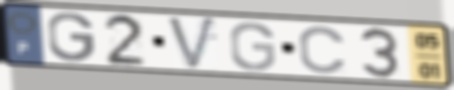2: (103, 12, 148, 69)
3: (358, 26, 401, 81)
C: (297, 24, 350, 76)
G: (45, 11, 97, 64), (227, 20, 278, 72)
V: (165, 15, 220, 73)
